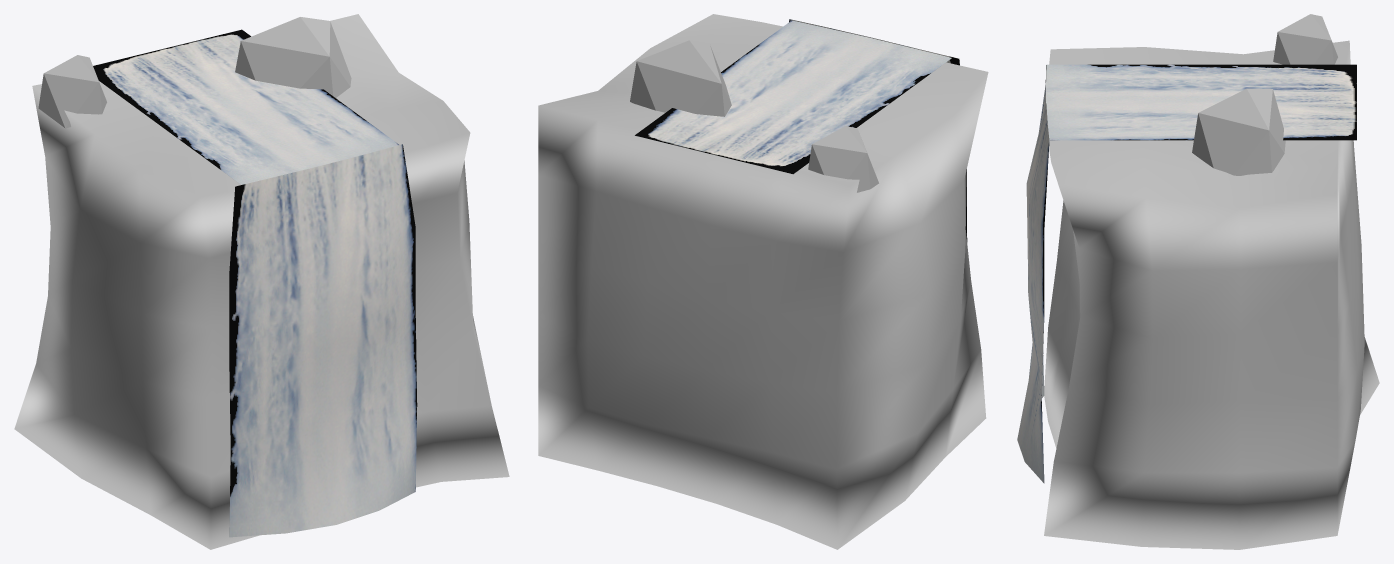
File: Waterfall.obj
The picture shows the model from 3 angles, left to right: view 1: azimuth 30°, elevation 25°; view 2: azimuth 150°, elevation 25°; view 3: azimuth 270°, elevation 25°; orthographic projection. The views are drawn at different scales.
Visible parts, largest first — view 1: Box01, Plane01, Plane02, GeoSphere02, GeoSphere01; view 2: Box01, Plane02, GeoSphere02, GeoSphere01; view 3: Box01, Plane02, GeoSphere02, Plane01, GeoSphere01.
Boxes of the visible parts, x1=… form: Box01: x1=14, y1=14, x2=509, y2=549; Plane01: x1=229, y1=144, x2=417, y2=537; Plane02: x1=93, y1=29, x2=398, y2=184; GeoSphere02: x1=235, y1=17, x2=351, y2=97; GeoSphere01: x1=38, y1=55, x2=106, y2=128; Box01: x1=538, y1=14, x2=988, y2=549; Plane02: x1=635, y1=20, x2=951, y2=174; GeoSphere02: x1=630, y1=40, x2=731, y2=116; GeoSphere01: x1=808, y1=126, x2=878, y2=192; Box01: x1=1044, y1=40, x2=1379, y2=549; Plane02: x1=1046, y1=64, x2=1356, y2=140; GeoSphere02: x1=1192, y1=88, x2=1285, y2=175; Plane01: x1=1017, y1=65, x2=1049, y2=483; GeoSphere01: x1=1273, y1=14, x2=1337, y2=64.
Size of the model in its own units: 150 by 159 by 132.
